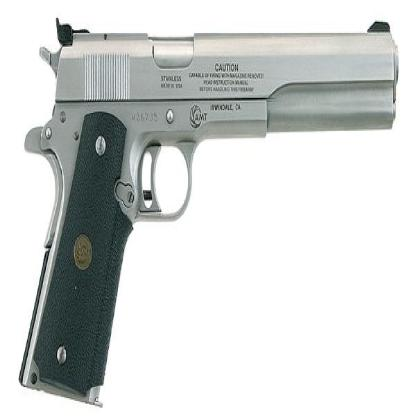handgun: (19, 11, 396, 407)
